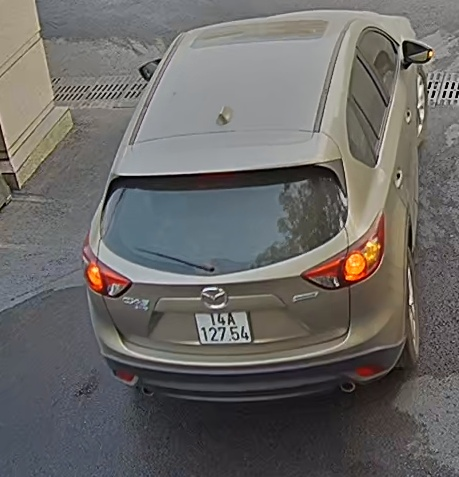vehicle plate: (188, 307, 255, 347)
